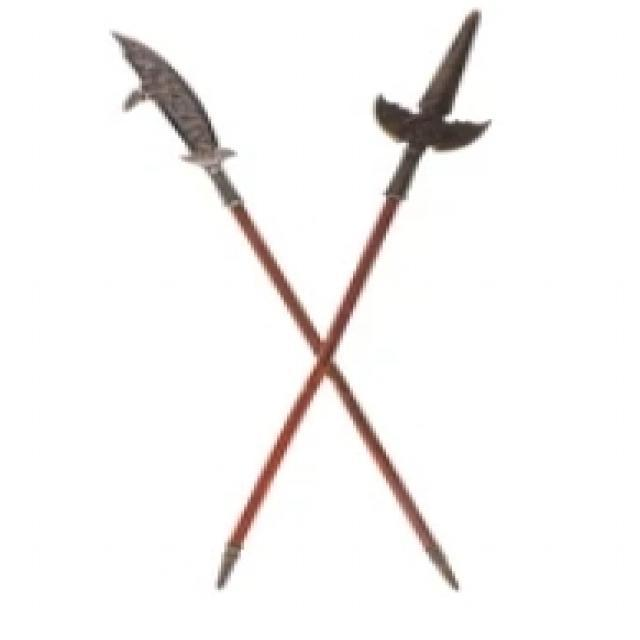spear: (80, 22, 518, 592)
